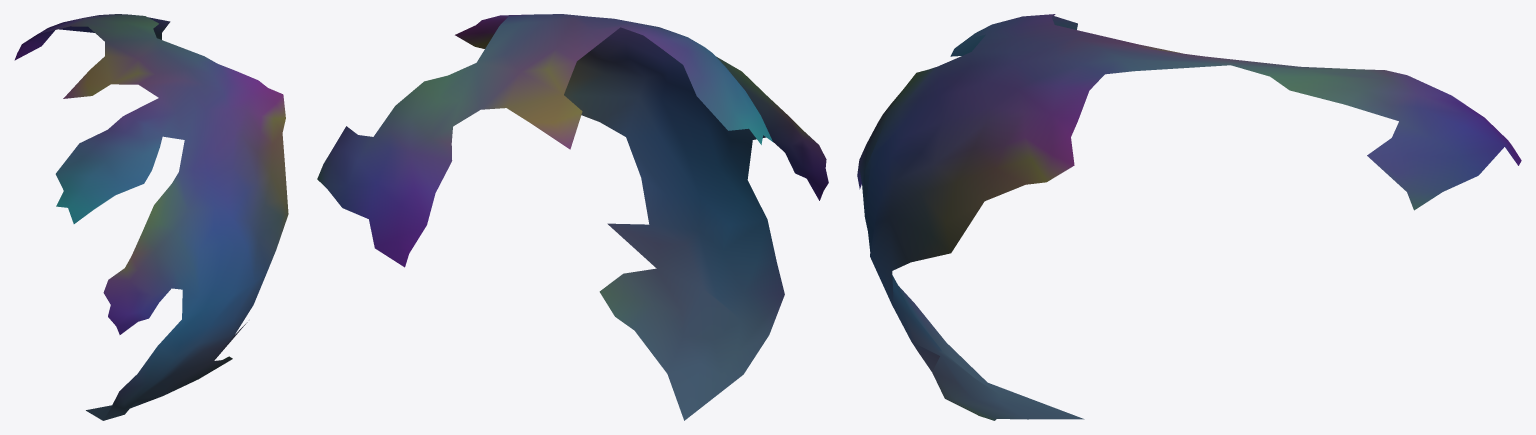
The picture shows the model from 3 angles, left to right: view 1: azimuth 30°, elevation 25°; view 2: azimuth 150°, elevation 25°; view 3: azimuth 270°, elevation 25°; orthographic projection. The views are drawn at different scales.
Parts seen in each view (by area): view 1: starcloud244; view 2: starcloud244; view 3: starcloud244.
Part boxes in pixels (box(x1,y1,x2,y2)): starcloud244: box(14, 14, 288, 420); starcloud244: box(317, 14, 828, 420); starcloud244: box(857, 14, 1521, 420).
Size of the model in its own units: 0.3064 by 0.3711 by 0.5.
